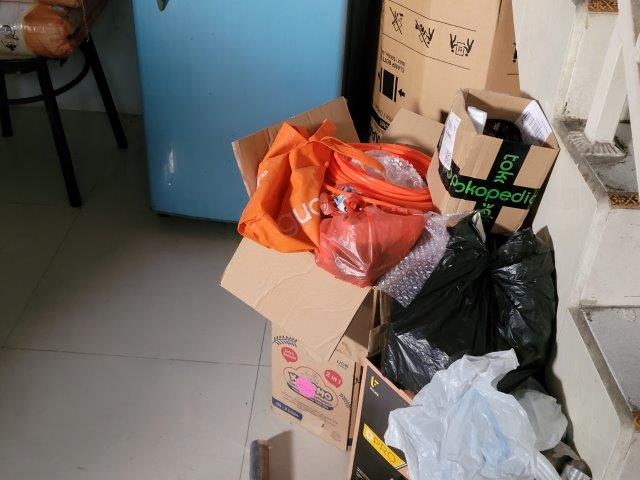kardus: (229, 234, 377, 452), (363, 1, 536, 132), (423, 88, 559, 231)
plastik: (387, 354, 561, 480), (417, 235, 557, 357), (326, 206, 416, 284)
